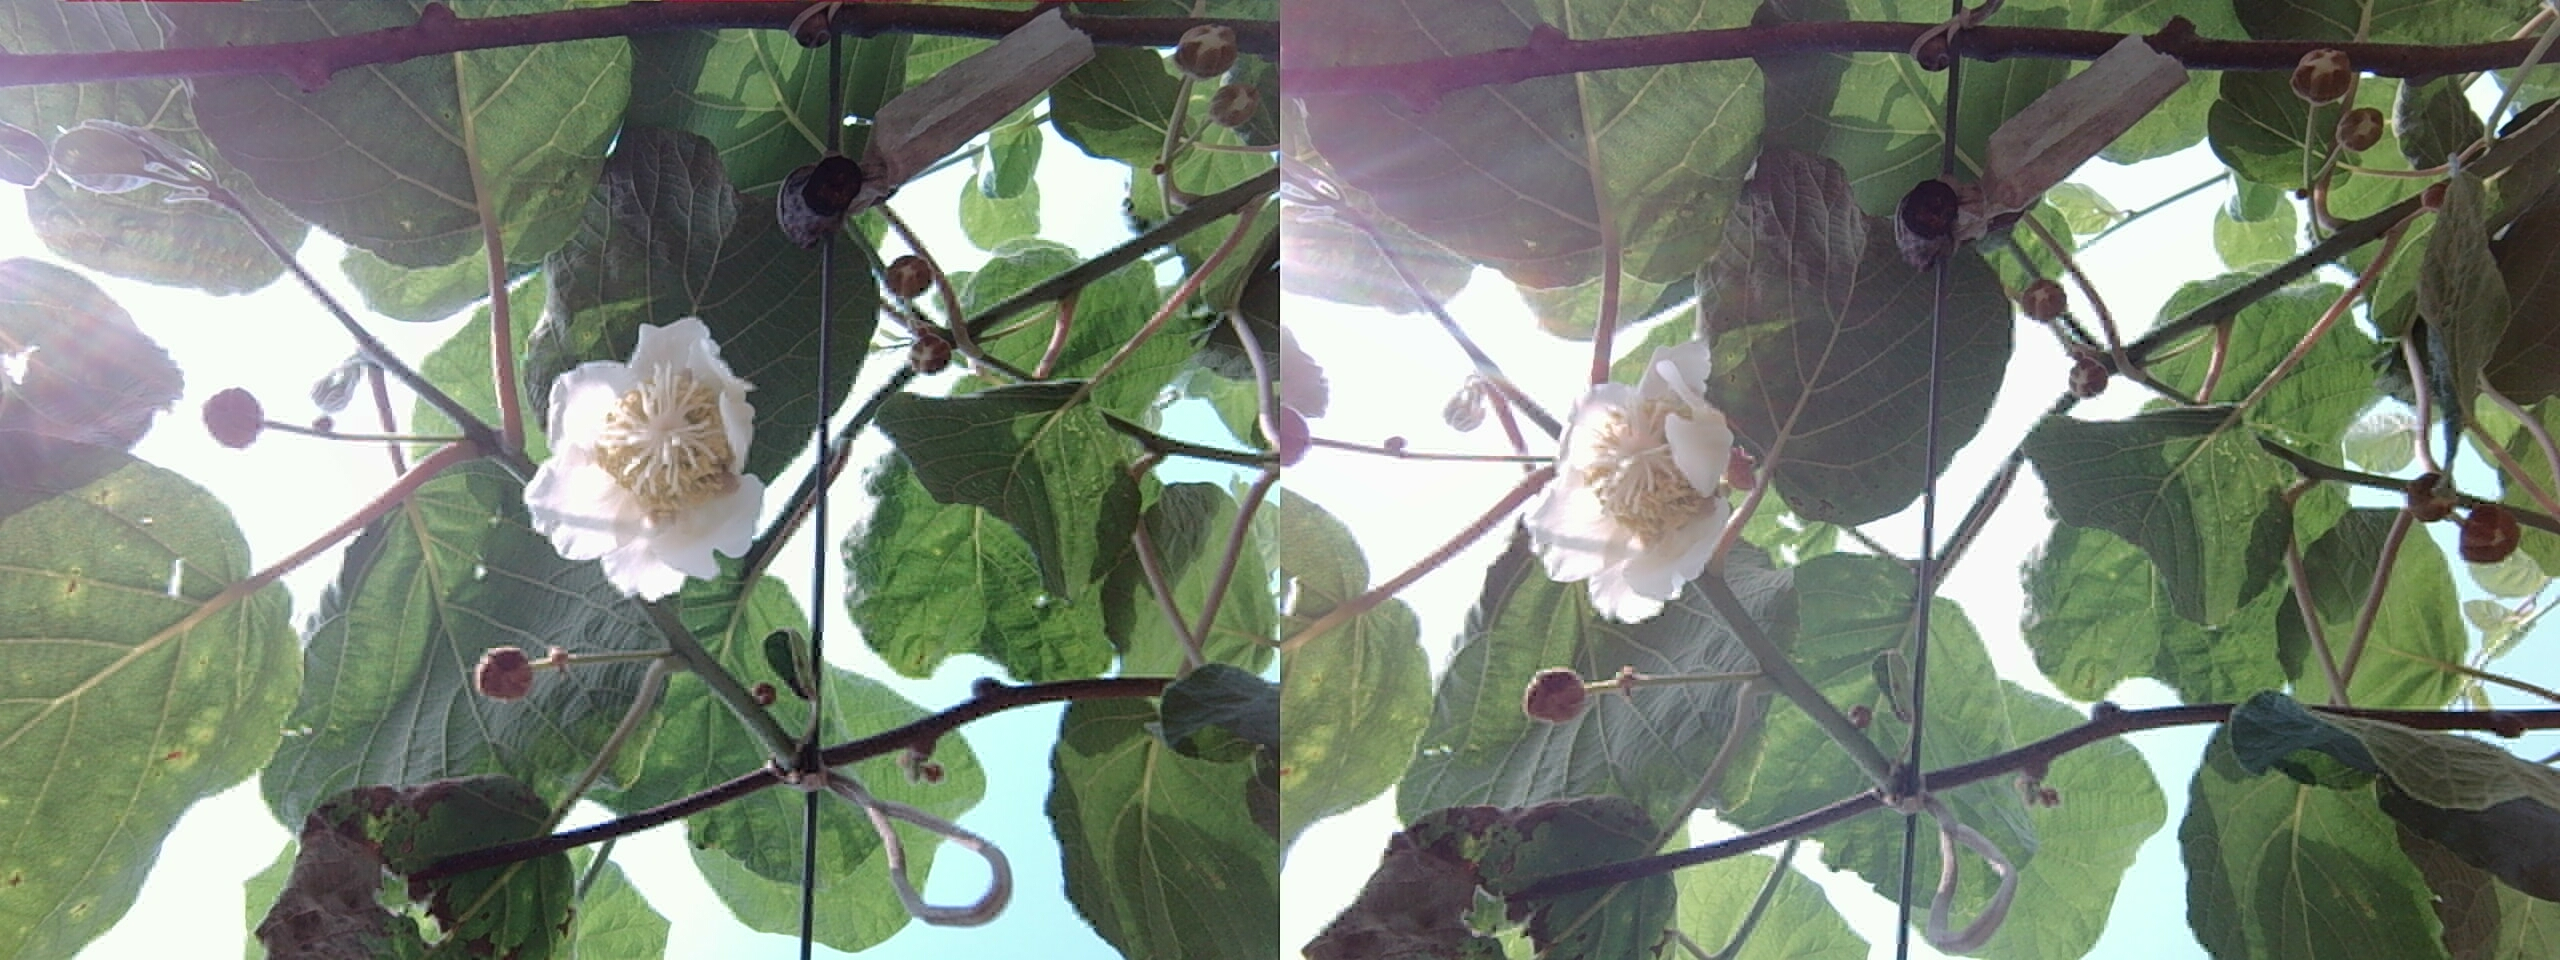flower: (529, 304, 769, 581), (1523, 359, 1749, 612)
